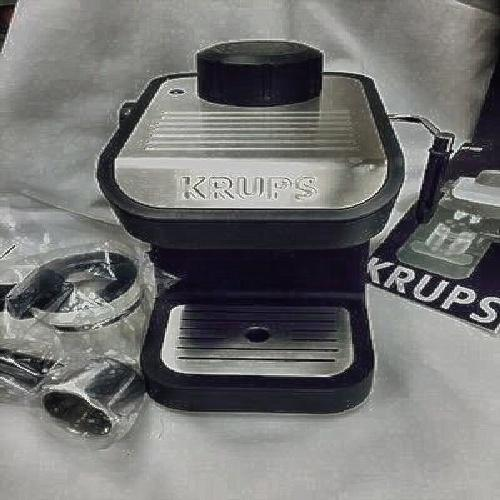toaster: (111, 48, 392, 416)
